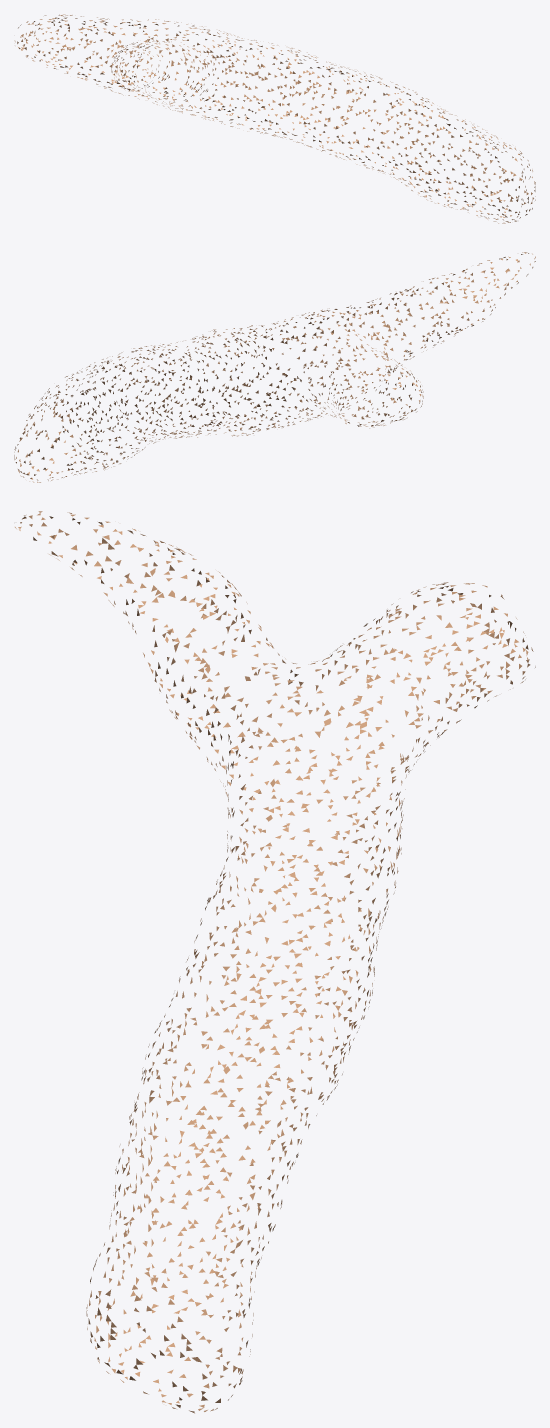
File: morph_005.glb
The picture shows the model from 3 angles, top to bottom: view 1: azimuth 30°, elevation 25°; view 2: azimuth 150°, elevation 25°; view 3: azimuth 270°, elevation 25°; orthographic projection. The views are drawn at different scales.
Bounding box in the file's own units: 99.57 × 60.88 × 54.64.
